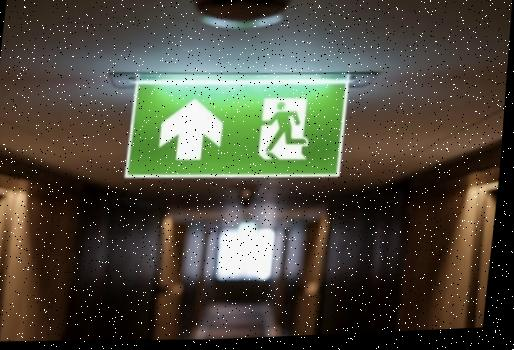emergency_exit: (123, 73, 351, 180)
